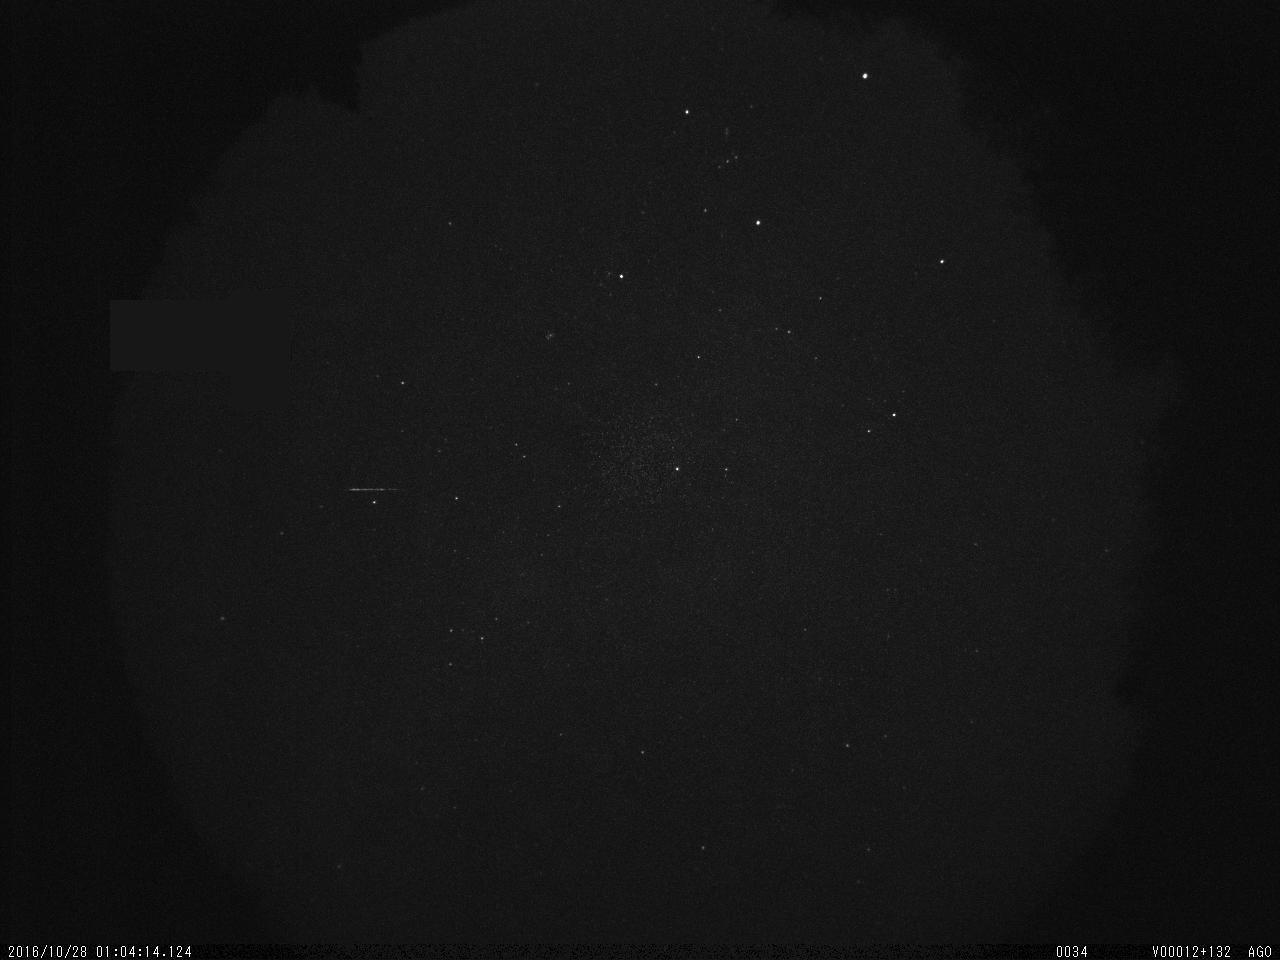meteor: (338, 475, 414, 519)
